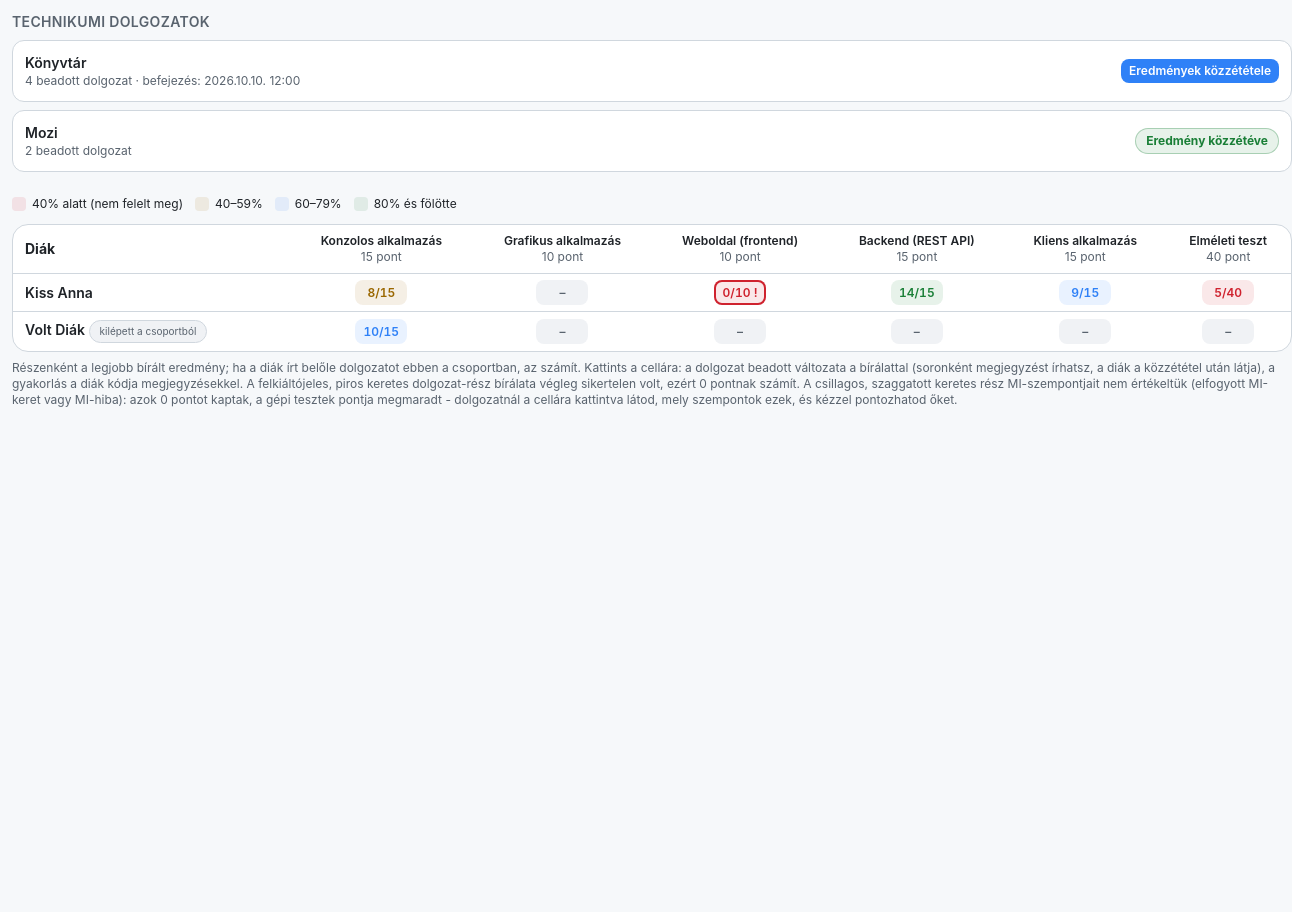
Test case: VizsgareszTerkepComponent › kilépett diák: jelölt sor, a dolgozat pillanatképe csak olvasható (nincs kézi pontozás)
Expected: the text with test id "left-group-66" reads "kilépett a csoportból", [100,325,196,337]
Click the button with test id "cell-66-console". click: (381,332)
box: [355,319,407,344]
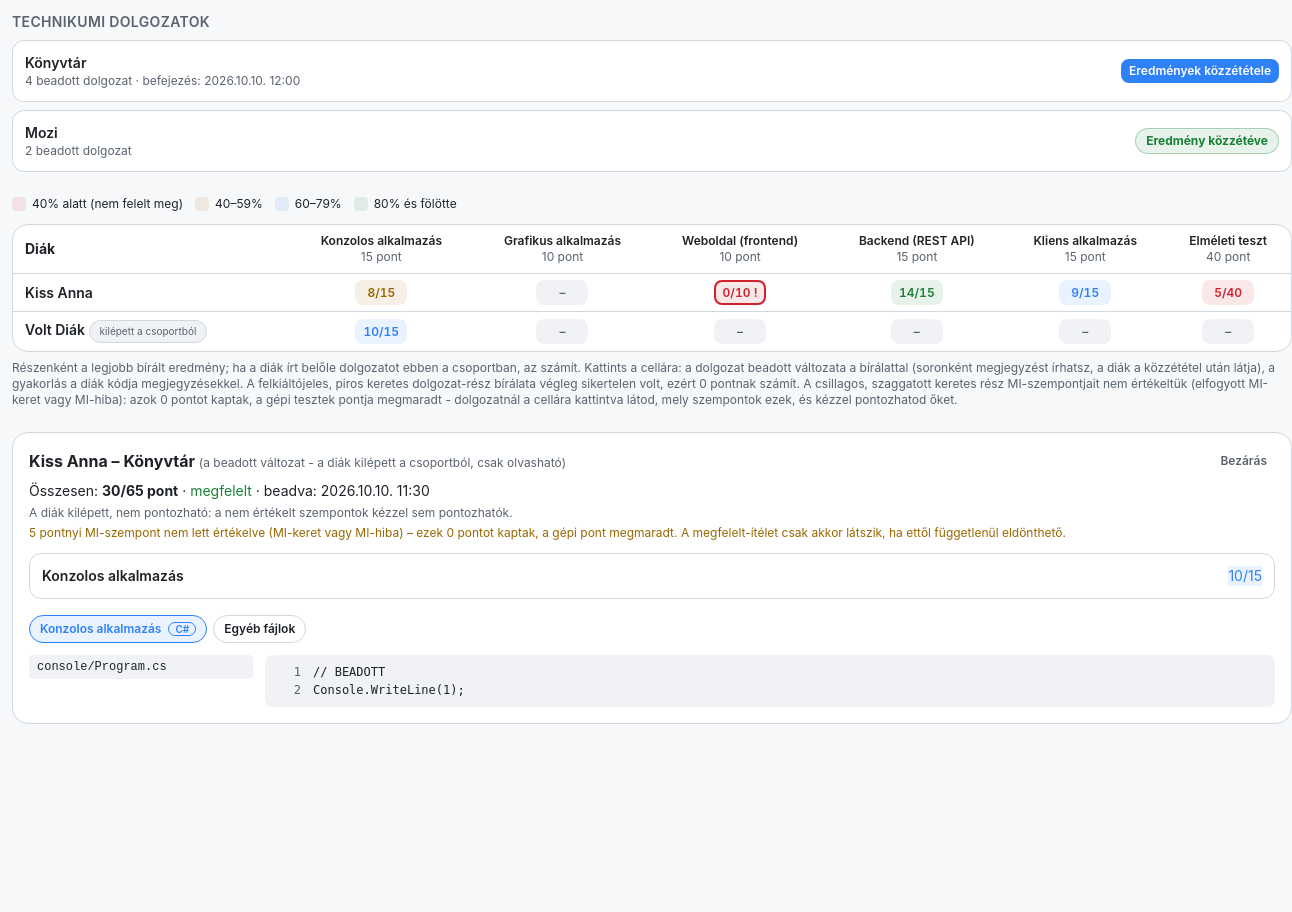
Now the text with test id "snapshot-left-group" is shown, box [199,456,566,470]
Now the text with test id "snapshot-left-ungradable" shows "A diák kilépett, nem pontozható", box [29,506,513,520]
